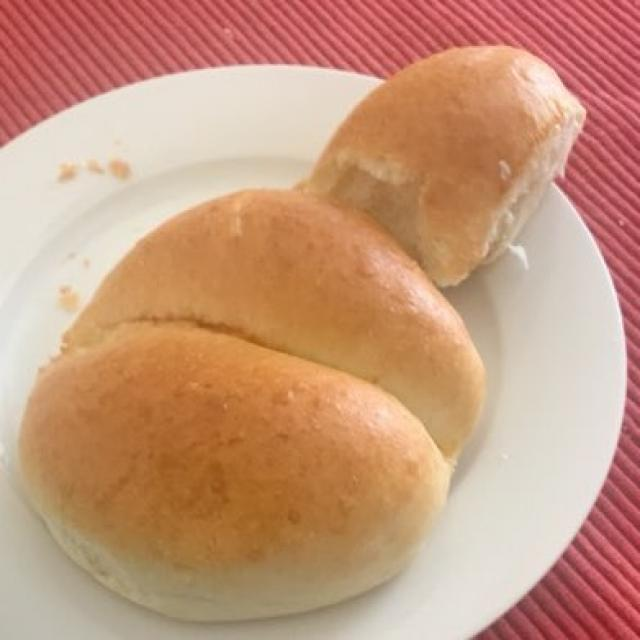bread: (28, 53, 571, 612)
